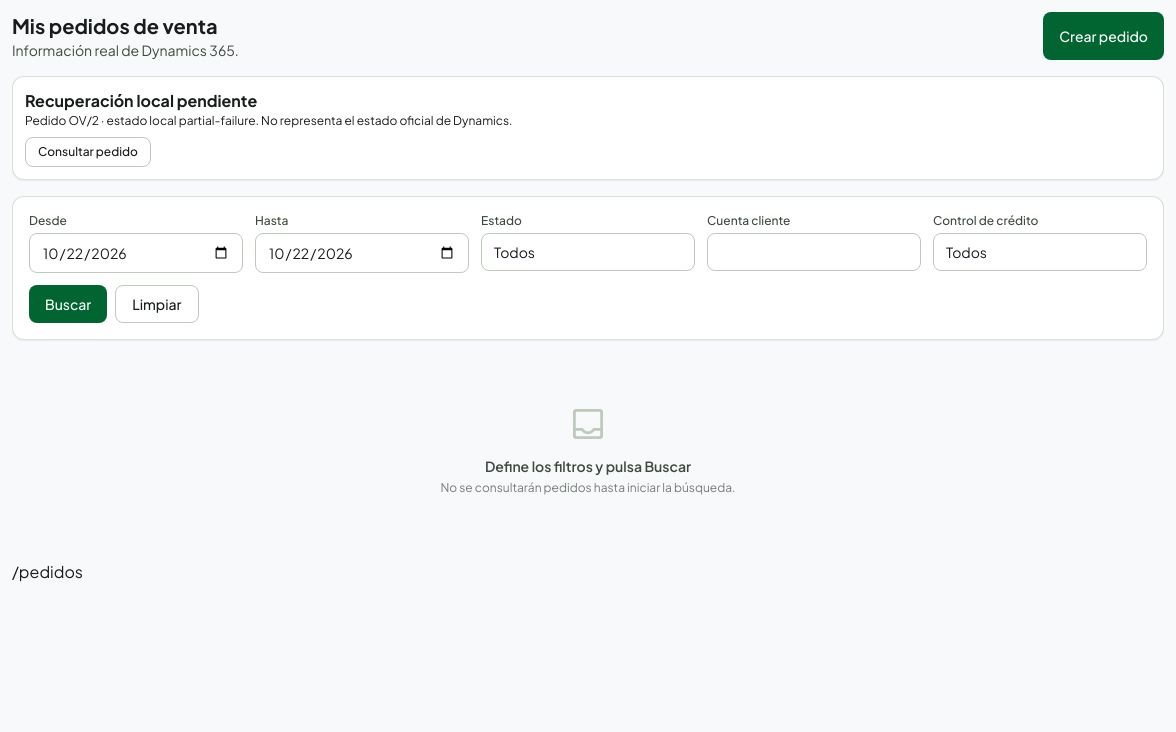
Test case: OrdersPage filters, history and recovery › handles order local recovery without claiming it is official state
This screenshot has width=1176, height=732.
Check: the text "Recuperación local pendiente" is shown, box [25,90,257,111]
Check: the text "No representa el estado oficial" is shown, box [256,113,512,128]
Click the button "Consultar pedido" at (88,152), box [25,137,151,167]
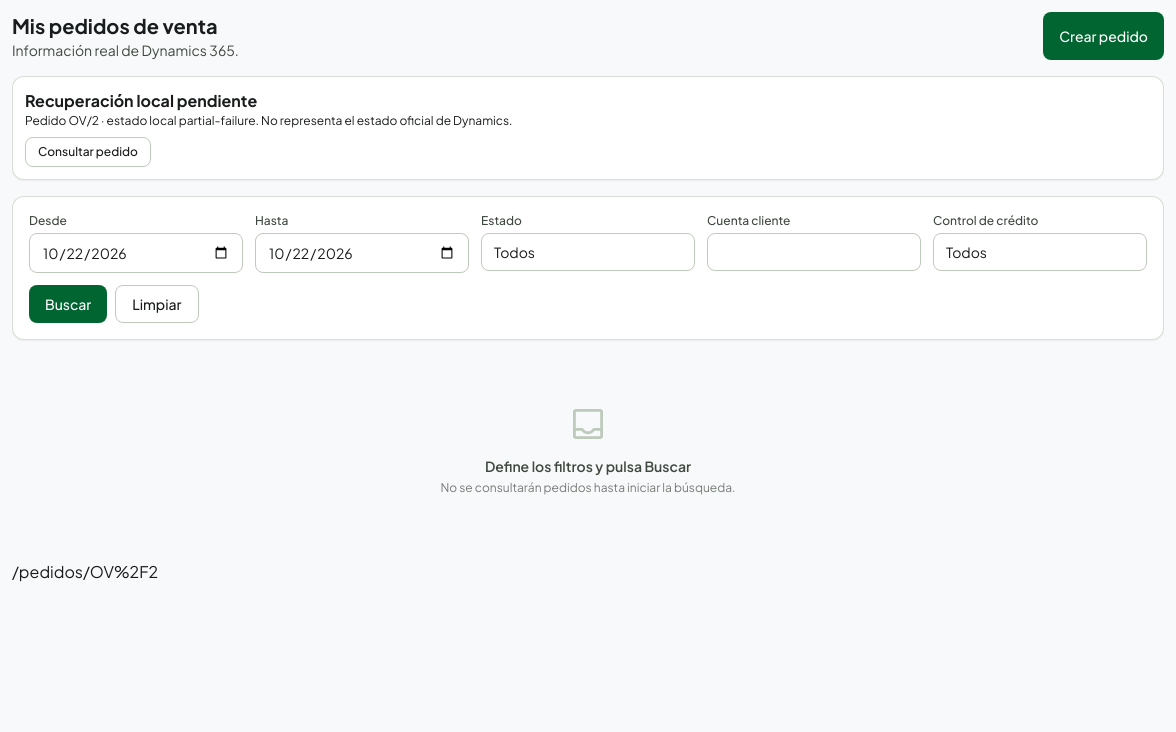
Check: the text with test id "location" reads "/pedidos/OV%2F2", box [12,561,158,582]
